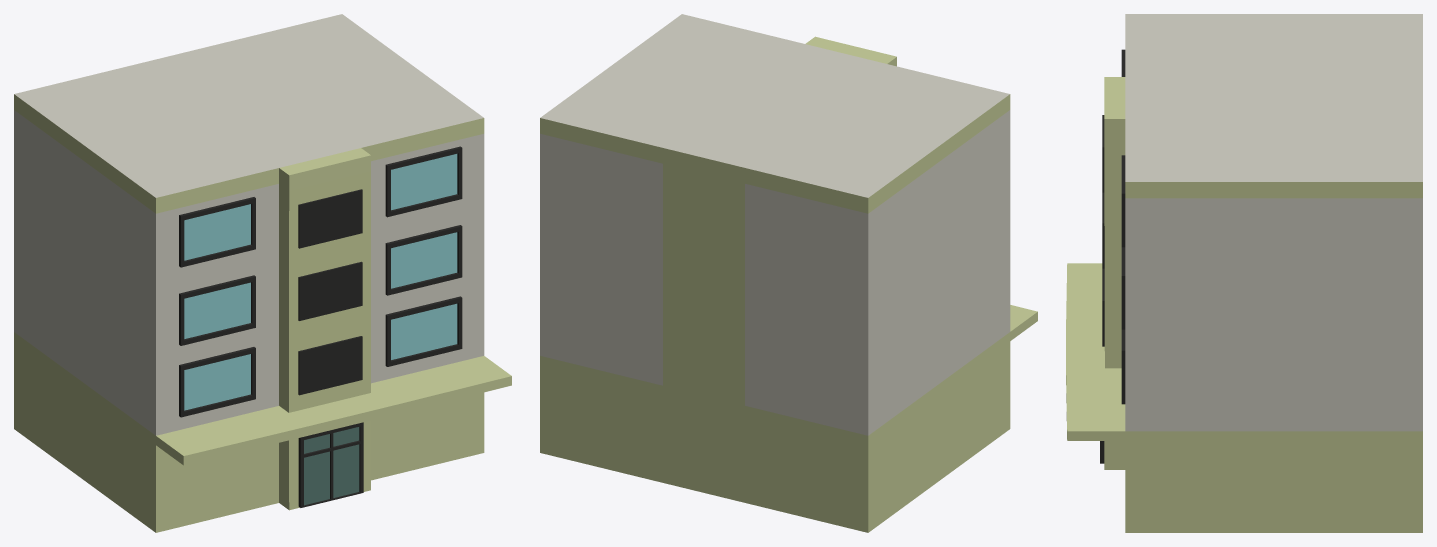
File: bina2.fbx
3 views of the same model, side by side, from view 1: azimuth 30°, elevation 25°; view 2: azimuth 150°, elevation 25°; view 3: azimuth 270°, elevation 25° (orthographic). The views are drawn at different scales.
Visible parts, largest first — view 1: bina5; view 2: bina5; view 3: bina5.
Boxes of the visible parts, x1,y1,x2,y2 form: bina5: (14,14,511,532); bina5: (540,14,1037,532); bina5: (1066,14,1422,532).
Bounding box in the file's own units: 444 × 433 × 399.
